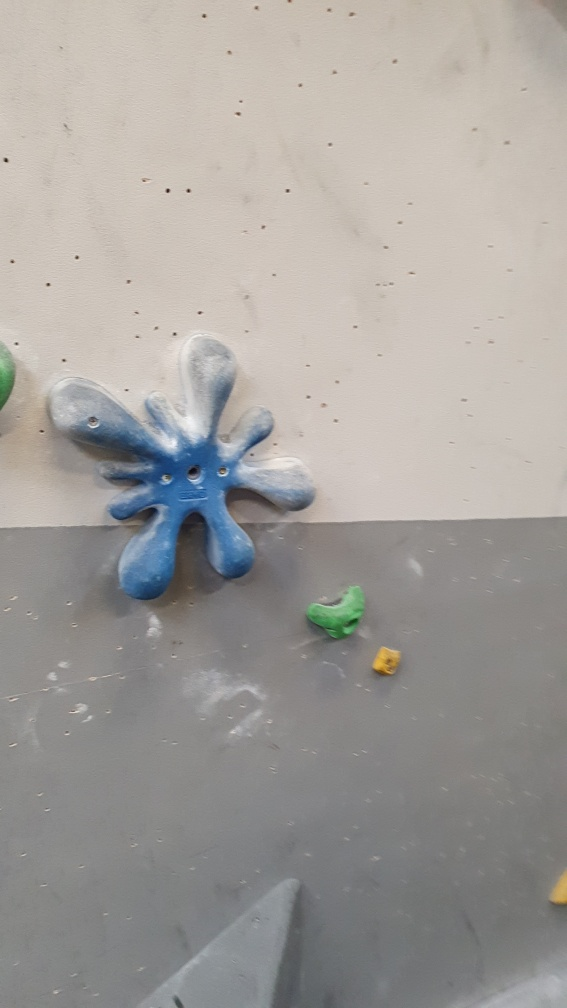Jug: (305, 581, 372, 642)
Octopus Pinch: (44, 326, 319, 606)
